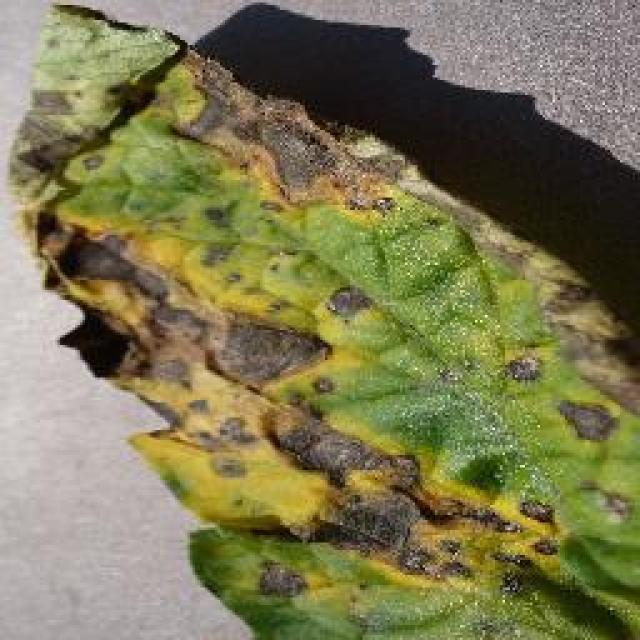Tomato Early blight leaf: (12, 2, 640, 640)
